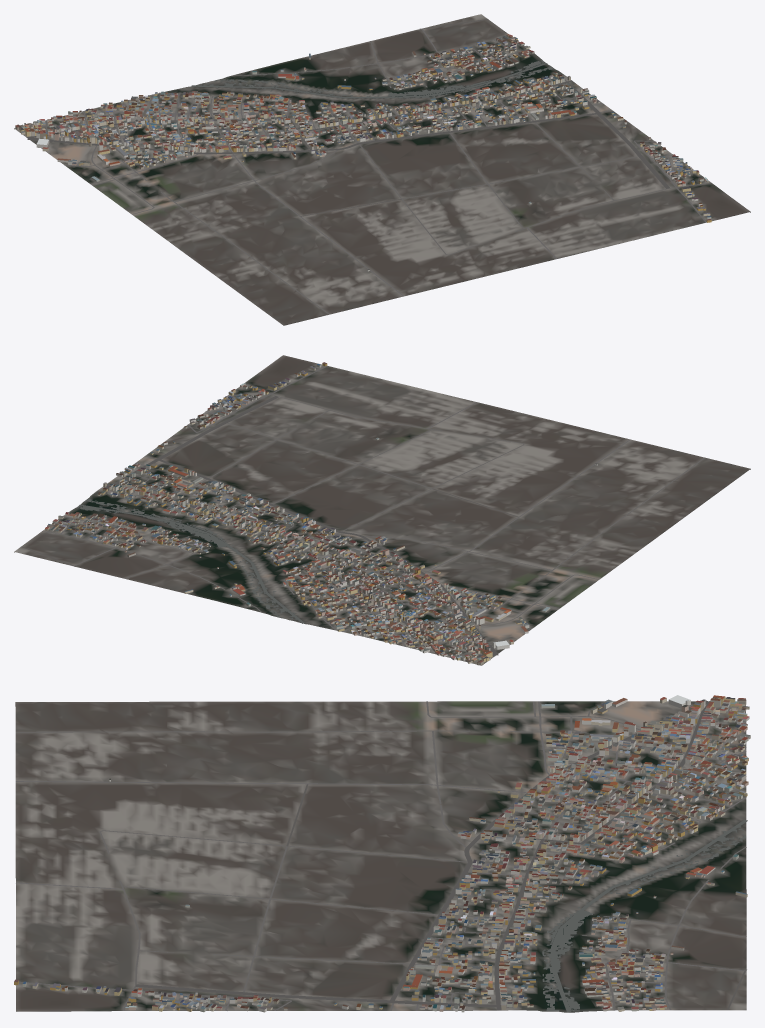
3 renders of one model, top to bottom at view 1: azimuth 30°, elevation 25°; view 2: azimuth 150°, elevation 25°; view 3: azimuth 270°, elevation 25°, orthographic. The views are drawn at different scales.
Parts seen in each view (by area): view 1: ground, buildings, roads, water; view 2: ground, buildings, roads, water; view 3: ground, buildings, roads, water.
Part boxes in pixels (bbox=[...]): ground: bbox=[14, 14, 750, 325]; buildings: bbox=[15, 34, 711, 271]; roads: bbox=[26, 19, 711, 314]; water: bbox=[191, 60, 554, 98]; ground: bbox=[14, 355, 750, 665]; buildings: bbox=[45, 362, 597, 665]; roads: bbox=[21, 365, 705, 657]; water: bbox=[76, 498, 304, 623]; ground: bbox=[15, 701, 746, 1012]; buildings: bbox=[14, 695, 750, 1012]; roads: bbox=[15, 700, 746, 1010]; water: bbox=[542, 819, 747, 1012].
Bounding box in the file's own units: 1419 × 25.21 × 1414.
